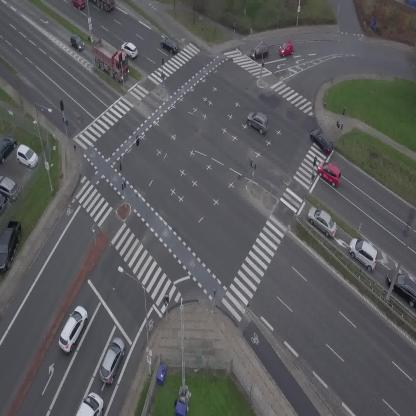car: (53, 303, 92, 354), (96, 335, 130, 386), (343, 234, 384, 272), (303, 203, 343, 240), (313, 158, 347, 189), (306, 125, 338, 156), (243, 107, 274, 136), (65, 32, 87, 54), (158, 35, 181, 55), (120, 39, 140, 59), (249, 44, 269, 59), (277, 41, 295, 57), (72, 0, 85, 9)
lorry: (83, 33, 138, 85), (75, 392, 103, 416)
